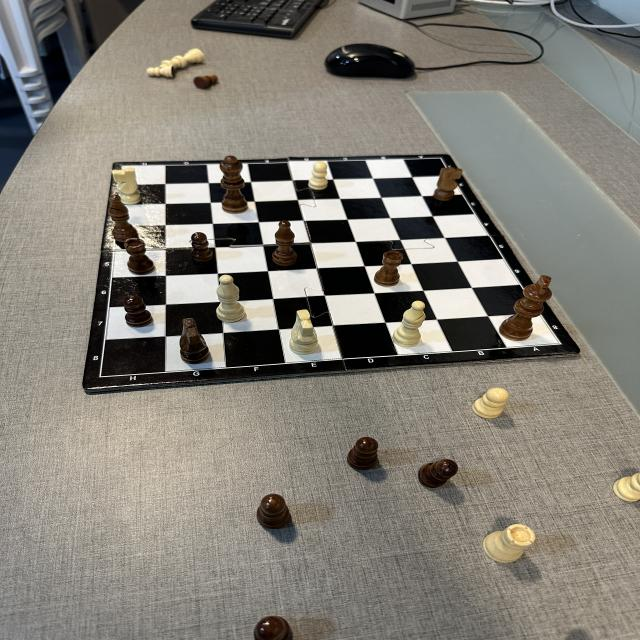Black-Bishop: (108, 194, 137, 239), (272, 220, 298, 266)
Black-King: (498, 275, 552, 341)
Black-Knight: (179, 318, 211, 364), (432, 168, 463, 202)
Black-Pawn: (256, 494, 290, 530), (418, 459, 459, 488), (346, 436, 379, 471), (124, 296, 154, 328), (191, 232, 213, 263), (193, 74, 218, 90)
Black-Queen: (219, 155, 249, 214)
Black-Rook: (124, 238, 156, 275), (373, 250, 404, 287)
White-Bishop: (392, 300, 426, 348), (216, 274, 246, 323)
White-Knight: (288, 309, 318, 355), (112, 168, 142, 205)
White-Pawn: (472, 387, 509, 419), (308, 162, 328, 190)
White-Rook: (482, 524, 536, 563)
